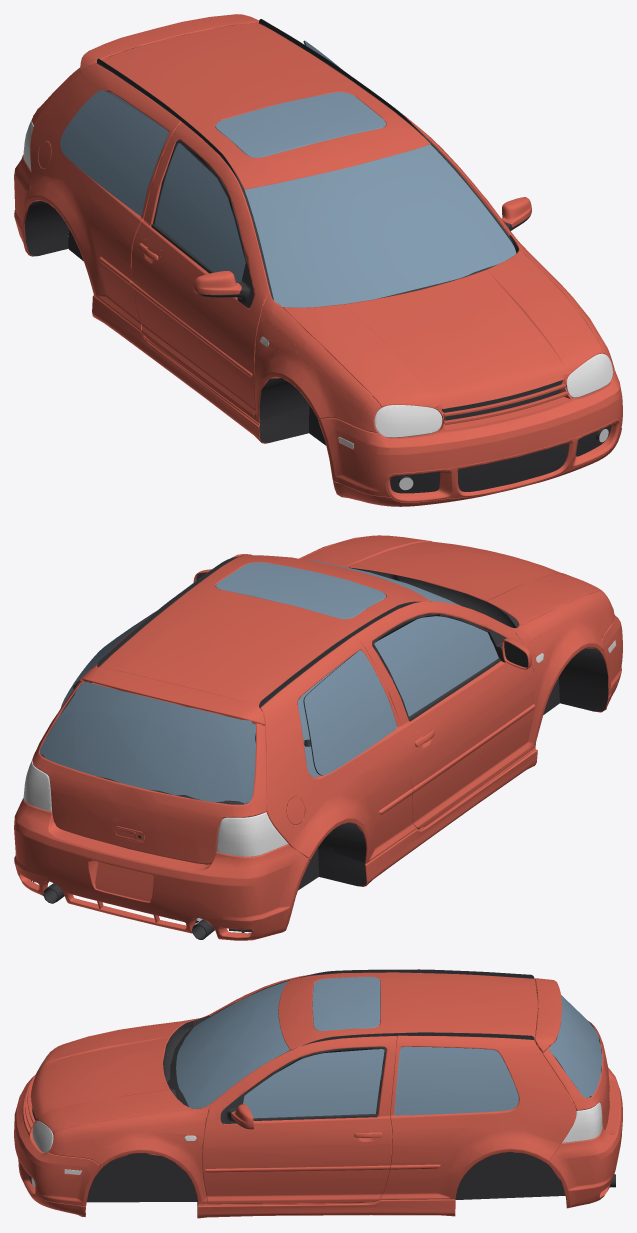
Rendered from wendtStrom.glb.
3 views of the same model, one above another, from view 1: azimuth 30°, elevation 25°; view 2: azimuth 150°, elevation 25°; view 3: azimuth 270°, elevation 25° (orthographic). The views are drawn at different scales.
Parts seen in each view (by area): view 1: Body, Hood, Roof, Bumper_Front, popOutWindows_on, Fenders, Headlights, Spoiler, Mirrors, windSplitters_on, Well_Rear, Bumper_Rear (+2 smaller); view 2: Body, Roof, Bumper_Rear, Hood, popOutWindows_on, Fenders, Spoiler, Taillights, windSplitters_on, Bumper_Front, Mirrors, shavedRubstrip_off (+5 smaller); view 3: Body, Roof, Hood, popOutWindows_on, Fenders, Bumper_Front, Bumper_Rear, windSplitters_on, Spoiler, shavedRubstrip_off, Taillights, shavedMarkers_off (+2 smaller).
Part boxes in pixels (left/top/right/bottom): Body: left=24, top=36, right=581, bottom=445; Hood: left=283, top=250, right=603, bottom=422; Roof: left=96, top=21, right=430, bottom=189; Bumper_Front: left=313, top=370, right=622, bottom=506; popOutWindows_on: left=60, top=40, right=340, bottom=216; Fenders: left=253, top=235, right=614, bottom=435; Headlights: left=374, top=353, right=612, bottom=437; Spoiler: left=80, top=14, right=259, bottom=72; Mirrors: left=193, top=197, right=531, bottom=307; windSplitters_on: left=96, top=19, right=433, bottom=191; Well_Rear: left=24, top=212, right=68, bottom=255; Bumper_Rear: left=14, top=155, right=37, bottom=256; Body: left=32, top=554, right=608, bottom=917; Roof: left=99, top=555, right=430, bottom=706; Bumper_Rear: left=14, top=798, right=309, bottom=940; Hood: left=301, top=535, right=601, bottom=624; popOutWindows_on: left=61, top=611, right=396, bottom=775; Fenders: left=299, top=536, right=614, bottom=750; Spoiler: left=80, top=667, right=265, bottom=725; Taillights: left=23, top=760, right=288, bottom=856; windSplitters_on: left=97, top=555, right=420, bottom=707; Bumper_Front: left=594, top=615, right=622, bottom=712; Mirrors: left=193, top=569, right=531, bottom=669; shavedRubstrip_off: left=378, top=704, right=534, bottom=814; Body: left=23, top=974, right=609, bottom=1218; Roof: left=278, top=972, right=536, bottom=1049; Hood: left=31, top=1020, right=191, bottom=1132; popOutWindows_on: left=395, top=1046, right=518, bottom=1115; Fenders: left=45, top=1015, right=208, bottom=1204; Bumper_Front: left=14, top=1075, right=109, bottom=1216; Bumper_Rear: left=546, top=1067, right=622, bottom=1208; windSplitters_on: left=289, top=969, right=534, bottom=1050; Spoiler: left=535, top=978, right=561, bottom=1052; shavedRubstrip_off: left=204, top=1164, right=440, bottom=1172; Taillights: left=562, top=1102, right=602, bottom=1142; shavedMarkers_off: left=148, top=1121, right=204, bottom=1145.
Bounding box in the file's own units: 2.03 × 1.28 × 4.17.
